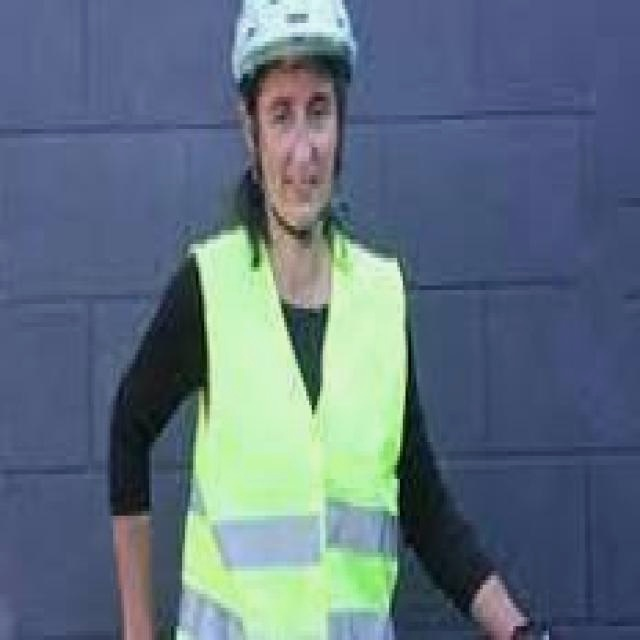Con_Chaleco: (185, 239, 397, 640)
